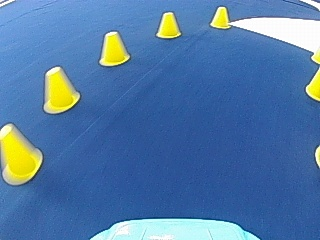cone: (0, 123, 42, 185), (42, 65, 80, 113), (98, 30, 130, 66), (155, 11, 181, 39), (305, 65, 320, 101), (209, 5, 230, 29)
